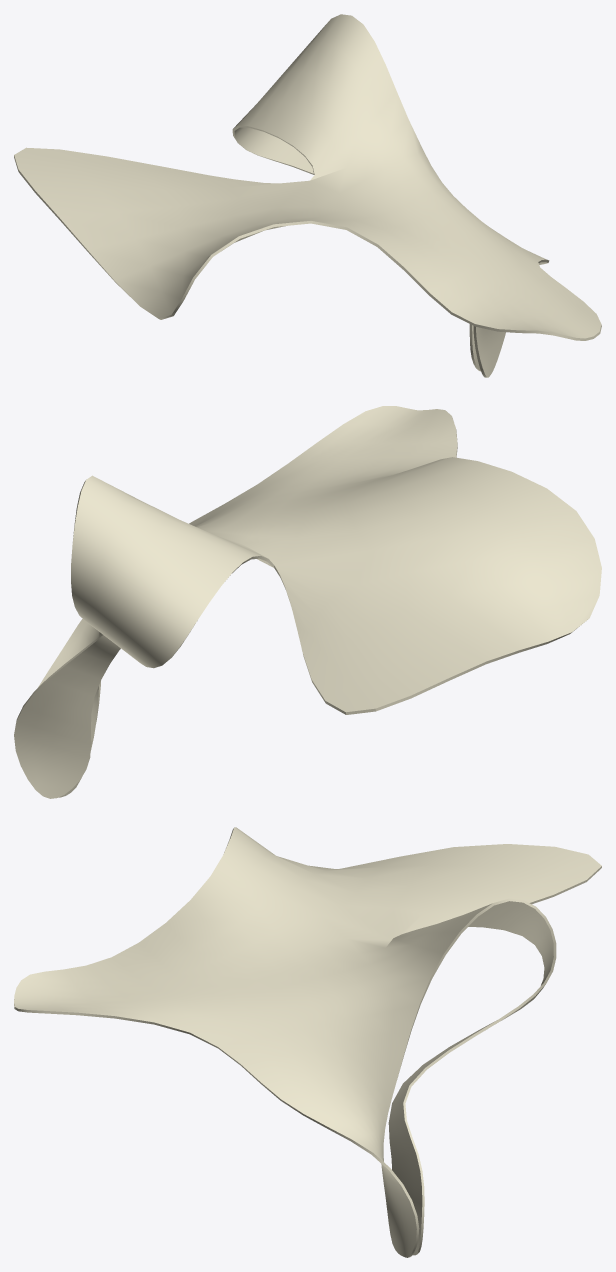
Rendered from roof_main_ginko.glb.
3 views of the same model, one above another, from view 1: azimuth 30°, elevation 25°; view 2: azimuth 150°, elevation 25°; view 3: azimuth 270°, elevation 25° (orthographic). The views are drawn at different scales.
Visible parts, largest first — view 1: ROOF_MAIN_GINKO; view 2: ROOF_MAIN_GINKO; view 3: ROOF_MAIN_GINKO.
Boxes of the visible parts, bbox=[...] form: ROOF_MAIN_GINKO: bbox=[14, 14, 601, 377]; ROOF_MAIN_GINKO: bbox=[14, 406, 601, 798]; ROOF_MAIN_GINKO: bbox=[14, 827, 601, 1257].
Size of the model in its own units: 37.8 by 28.35 by 47.15.
